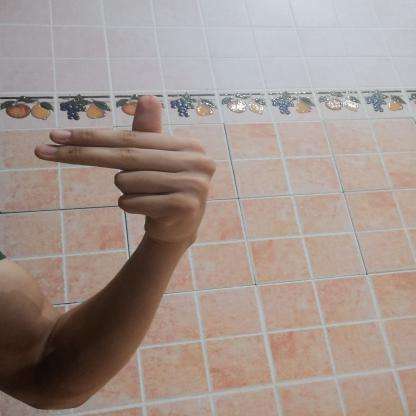GHAYN: (25, 89, 228, 259)
